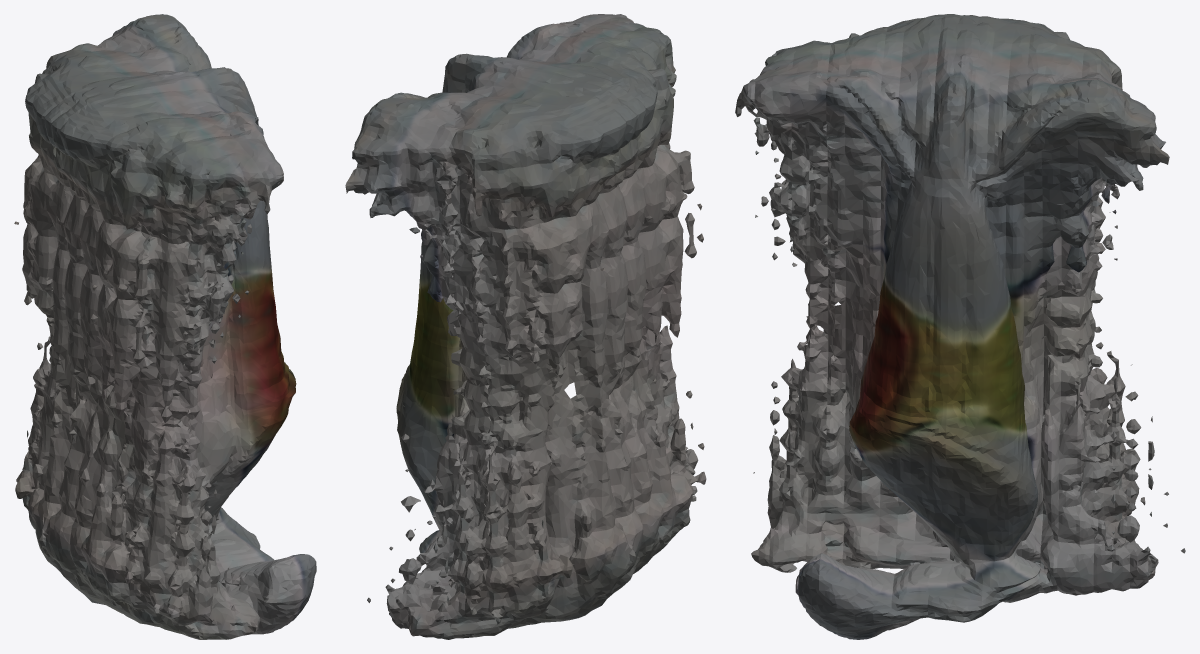
Rendered from pitcher.glb.
The picture shows the model from 3 angles, left to right: view 1: azimuth 30°, elevation 25°; view 2: azimuth 150°, elevation 25°; view 3: azimuth 270°, elevation 25°; orthographic projection. The views are drawn at different scales.
Parts seen in each view (by area): view 1: world; view 2: world; view 3: world.
Boxes of the visible parts, box(x1,y1,x2,y2) form: world: box(14, 14, 316, 639); world: box(345, 14, 706, 639); world: box(735, 14, 1185, 639).
Bounding box in the file's own units: 0.7474 × 1.6 × 1.17.
Materials: 1 (1 with a texture image).
